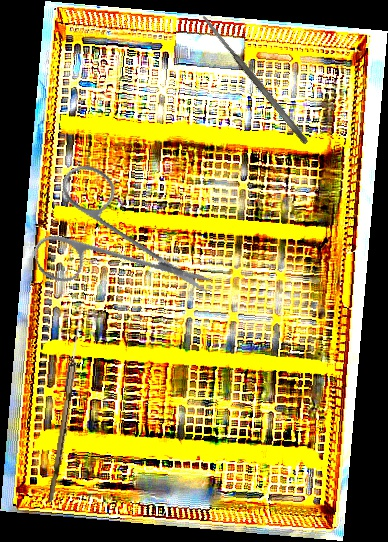Iris Scissors: (11, 138, 213, 344)
Spatula Surgical: (199, 12, 310, 146)
Surgical Spoon: (48, 311, 84, 504)
